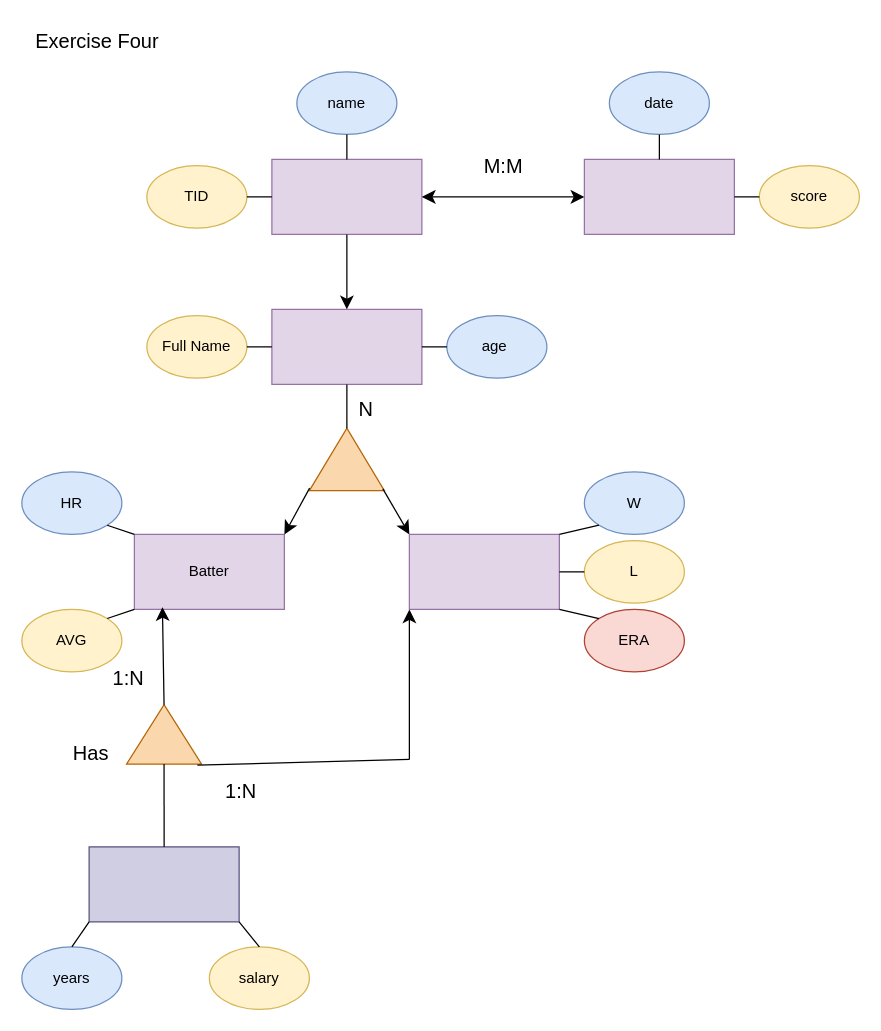
The diagram is 881 pixels wide and 1031 high, and some of its shapes have lost their labels. Each missing label, with the centre of its shape:
Contract: point 163,884
Games: point 658,196
Is a: point 346,459
Pitcher: point 483,571
Players: point 346,346
Teams: point 346,196
